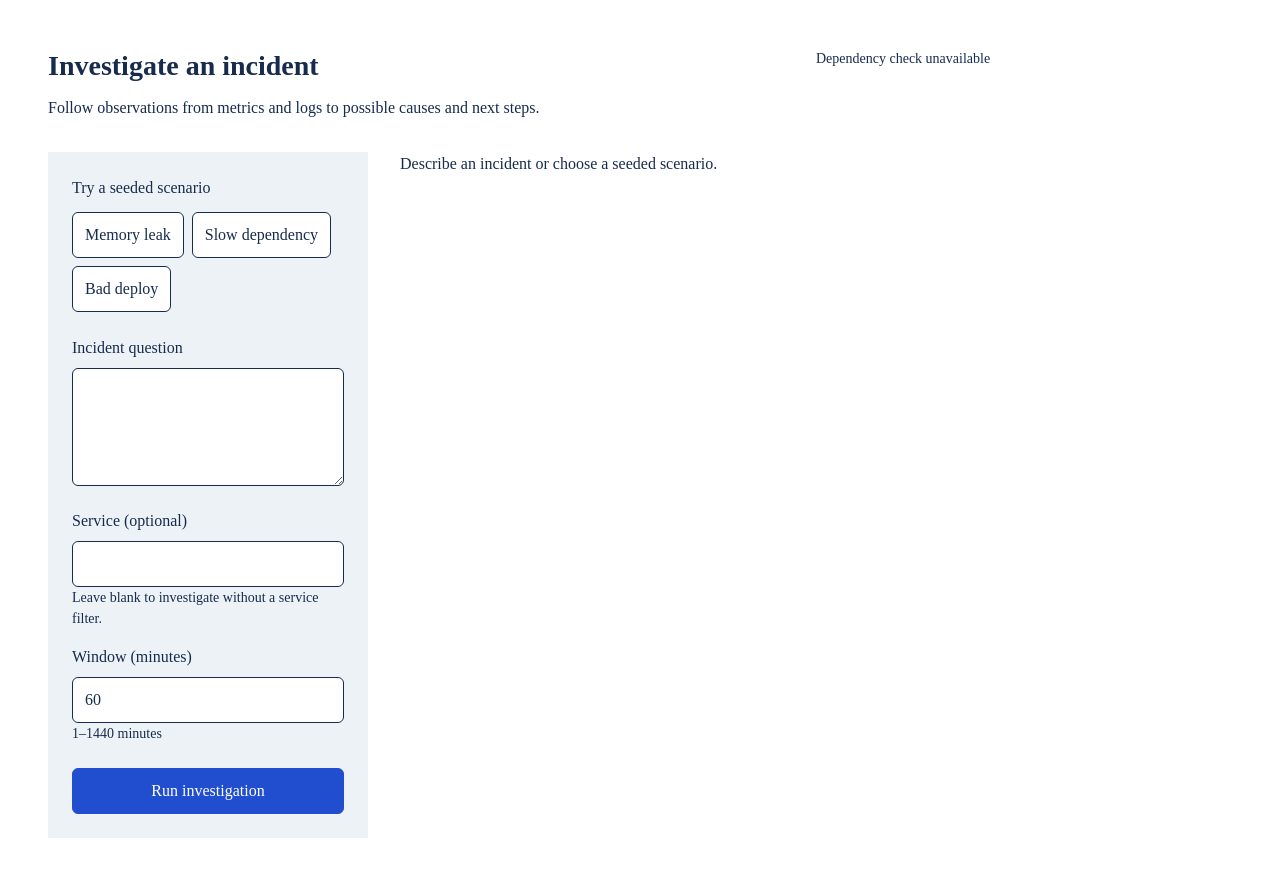
a failed health check remains unknown and permits explicit investigation
Expected: the text "Dependency check unavailable" is shown, [816,51,990,66]
Click the button "Slow dependency" at (261, 235), box [192,212,331,258]
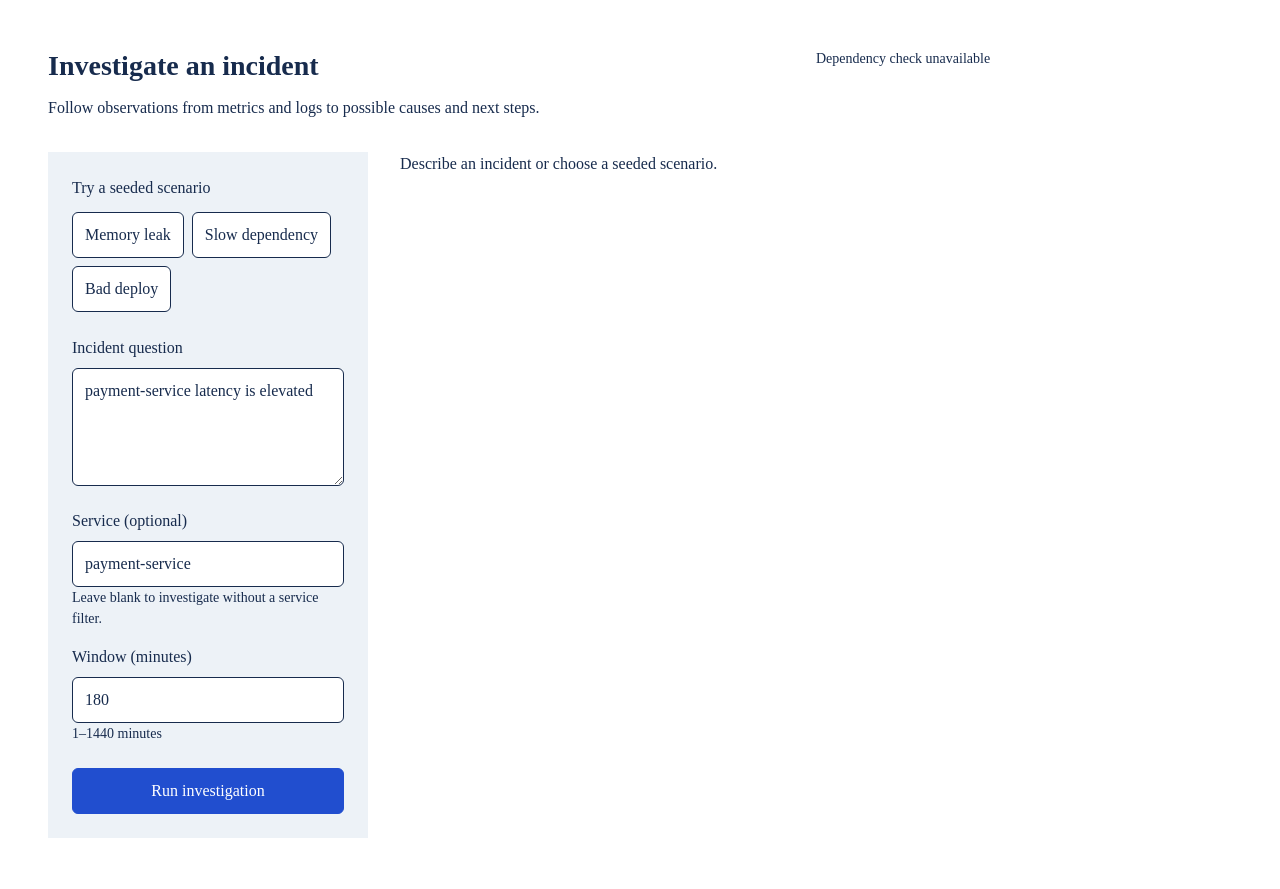
Click the button "Run investigation" at (208, 791), box [72,768,344,814]
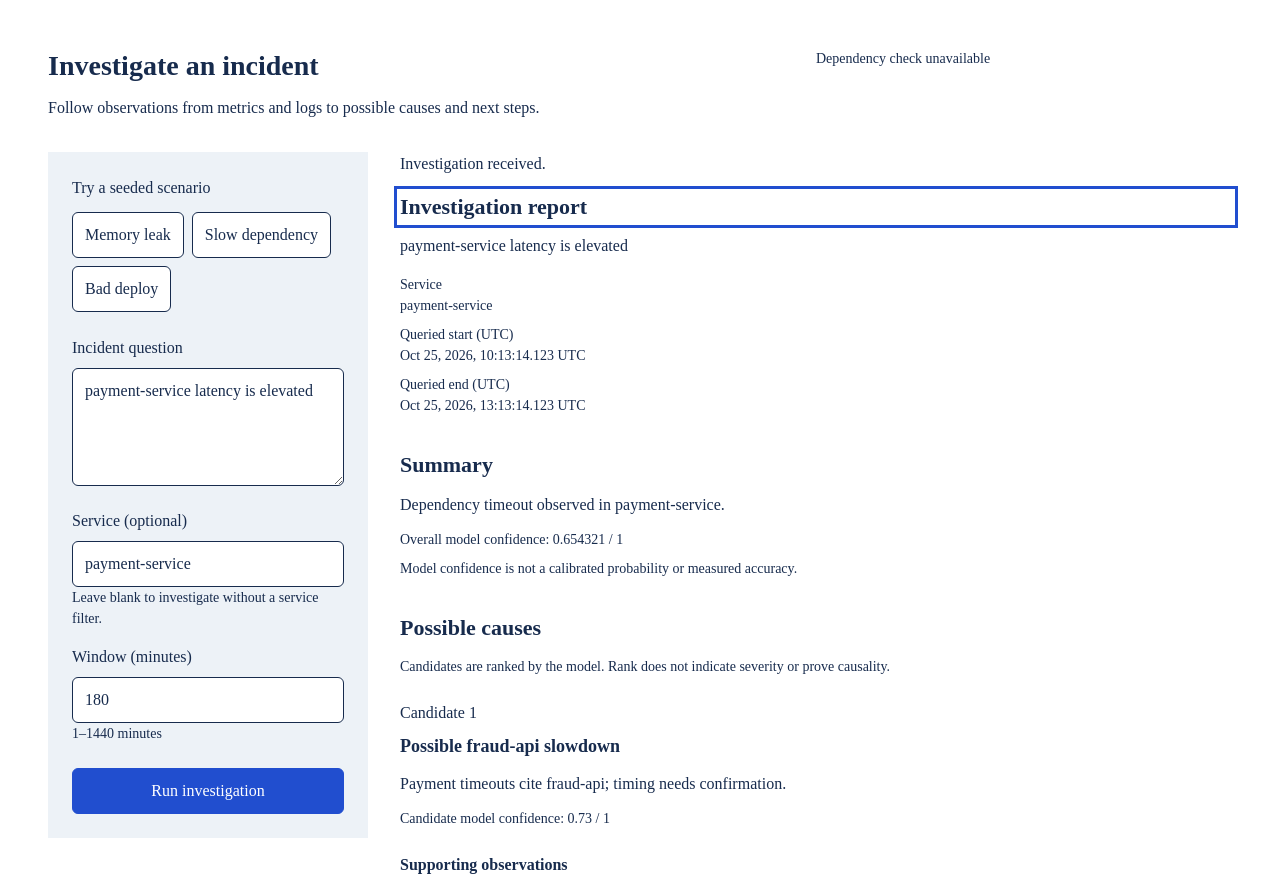
Now the text "Investigation received." is shown, box [400,155,546,172]
